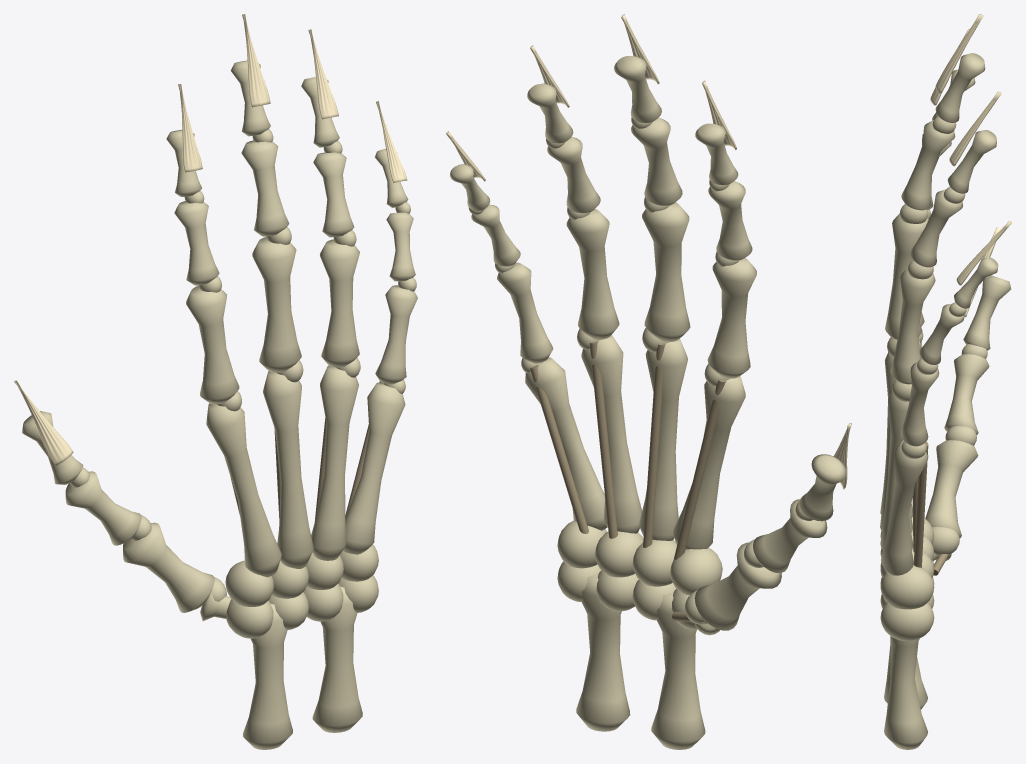
File: family-07.glb
3 views of the same model, side by side, from view 1: azimuth 30°, elevation 25°; view 2: azimuth 150°, elevation 25°; view 3: azimuth 270°, elevation 25° (orthographic). The views are drawn at different scales.
Visible parts, largest first — view 1: middle_metacarpal, ring_metacarpal, index_metacarpal, pinky_metacarpal, forearm_1, forearm_-1, middle_phalanx_0, ring_phalanx_0, index_phalanx_0, thumb_phalanx_0, middle_phalanx_1, thumb_phalanx_1 (+22 smaller); view 2: forearm_1, forearm_-1, ring_metacarpal, middle_phalanx_0, middle_metacarpal, pinky_metacarpal, index_metacarpal, ring_phalanx_0, index_phalanx_0, thumb_phalanx_0, pinky_phalanx_0, middle_phalanx_1 (+20 smaller); view 3: forearm_1, pinky_metacarpal, thumb_phalanx_0, ring_phalanx_0, middle_phalanx_1, middle_phalanx_0, thumb_phalanx_1, carpal_7, pinky_phalanx_0, ring_phalanx_1, thumb_phalanx_2, carpal_3 (+21 smaller).
Part boxes in pixels (left/top/right/bottom): middle_metacarpal: left=263, top=371, right=313, bottom=568; ring_metacarpal: left=311, top=365, right=358, bottom=560; index_metacarpal: left=206, top=403, right=281, bottom=577; pinky_metacarpal: left=342, top=382, right=405, bottom=554; forearm_1: left=312, top=586, right=362, bottom=732; forearm_-1: left=243, top=604, right=292, bottom=749; middle_phalanx_0: left=252, top=236, right=301, bottom=372; ring_phalanx_0: left=320, top=239, right=359, bottom=367; index_phalanx_0: left=186, top=285, right=239, bottom=404; thumb_phalanx_0: left=123, top=522, right=214, bottom=612; middle_phalanx_1: left=241, top=140, right=289, bottom=236; thumb_phalanx_1: left=65, top=471, right=141, bottom=545; forearm_1: left=576, top=574, right=630, bottom=731; forearm_-1: left=651, top=592, right=705, bottom=749; ring_metacarpal: left=581, top=335, right=641, bottom=533; middle_phalanx_0: left=642, top=202, right=690, bottom=342; middle_metacarpal: left=639, top=339, right=687, bottom=540; pinky_metacarpal: left=525, top=357, right=607, bottom=530; index_metacarpal: left=673, top=376, right=745, bottom=549; ring_phalanx_0: left=566, top=209, right=619, bottom=339; index_phalanx_0: left=707, top=257, right=756, bottom=378; thumb_phalanx_0: left=694, top=542, right=781, bottom=630; pinky_phalanx_0: left=497, top=262, right=553, bottom=363; middle_phalanx_1: left=631, top=117, right=682, bottom=206; forearm_1: left=884, top=636, right=927, bottom=749; pinky_metacarpal: left=881, top=440, right=928, bottom=575; thumb_phalanx_0: left=925, top=440, right=978, bottom=538; ring_phalanx_0: left=890, top=268, right=935, bottom=384; middle_phalanx_1: left=901, top=120, right=955, bottom=210; middle_phalanx_0: left=885, top=213, right=928, bottom=339; thumb_phalanx_1: left=944, top=354, right=989, bottom=434; carpal_7: left=880, top=565, right=934, bottom=609; pinky_phalanx_0: left=900, top=361, right=939, bottom=446; ring_phalanx_1: left=910, top=189, right=962, bottom=267; thumb_phalanx_2: left=963, top=275, right=1011, bottom=350; carpal_3: left=880, top=602, right=934, bottom=641.
Size of the model in its own units: 0.1296 by 0.2302 by 0.0392.
